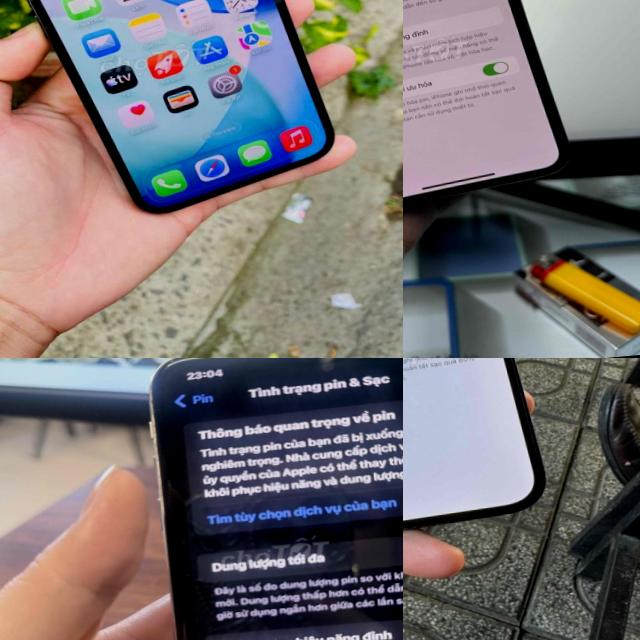gen_11: (403, 0, 582, 219)
gen_12_13: (0, 0, 341, 227)
gen_14: (403, 358, 557, 551)
gen_x_xs: (137, 358, 403, 640)
